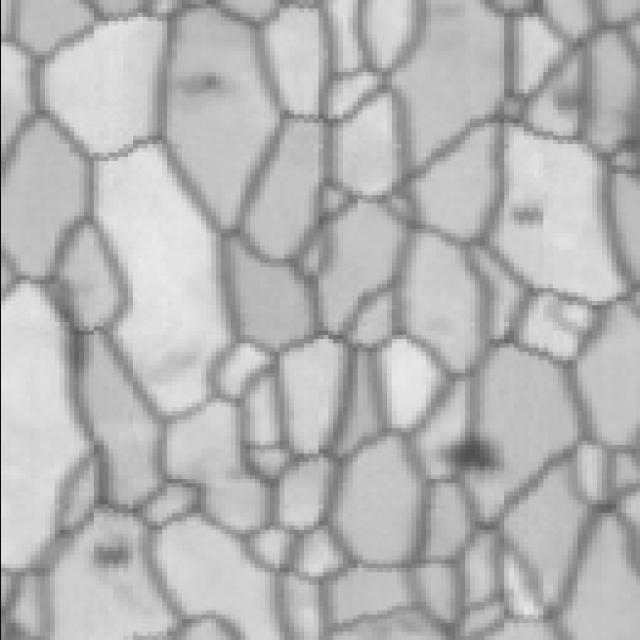good_void: (75, 518, 142, 585), (428, 431, 512, 484), (168, 63, 225, 99), (503, 193, 546, 229)
